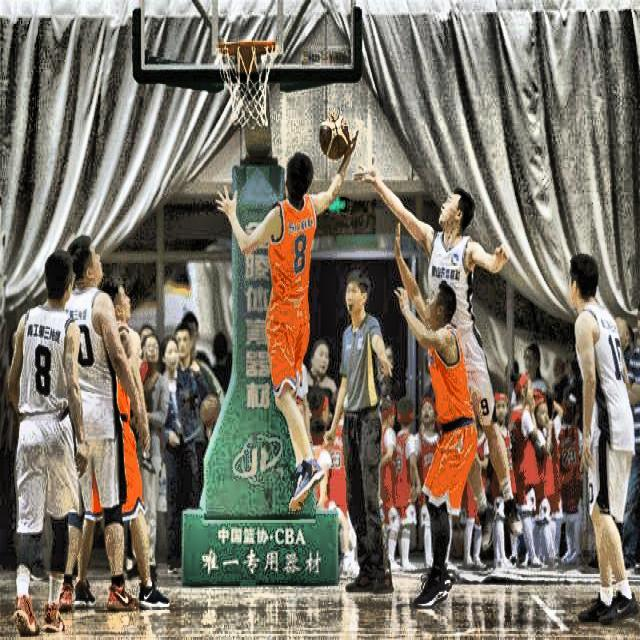board: (320, 114, 350, 158)
rim: (216, 41, 279, 129)
